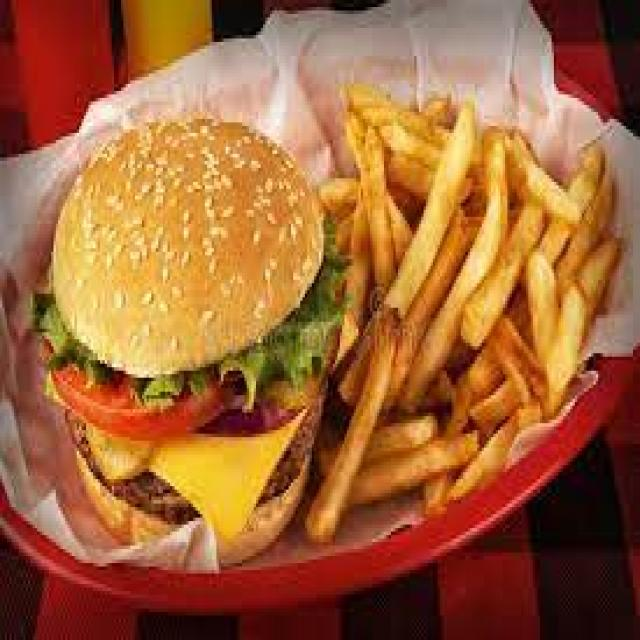Burger: (37, 105, 333, 573)
French Fries: (307, 74, 619, 542)
